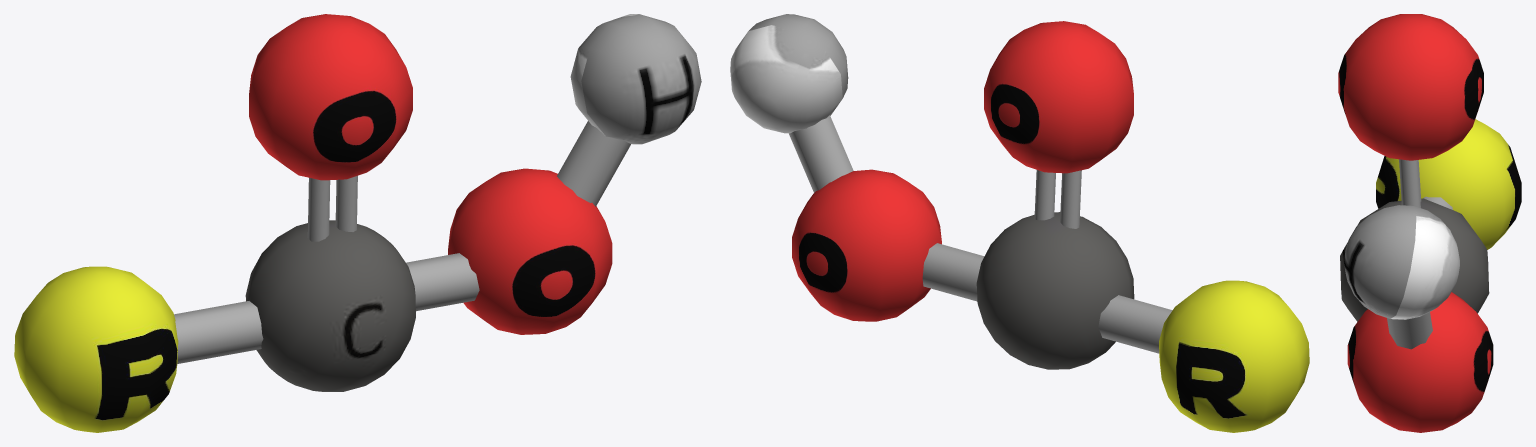
Rendered from corboxylic acid.fbx.
3 views of the same model, side by side, from view 1: azimuth 30°, elevation 25°; view 2: azimuth 150°, elevation 25°; view 3: azimuth 270°, elevation 25° (orthographic). The views are drawn at different scales.
Parts seen in each view (by area): view 1: pSphere215, pSphere217, pSphere216, pSphere218, pSphere219, pCylinder21, pCylinder20, pCylinder22, pCylinder24, pCylinder23; view 2: pSphere215, pSphere216, pSphere217, pSphere218, pSphere219, pCylinder21, pCylinder20, pCylinder22, pCylinder24, pCylinder23; view 3: pSphere217, pSphere218, pSphere219, pSphere216, pSphere215, pCylinder20, pCylinder23.
Part boxes in pixels (<box>): pSphere215: <box>245,220,415,391</box>; pSphere217: <box>249,14,412,180</box>; pSphere216: <box>14,266,178,432</box>; pSphere218: <box>448,168,612,334</box>; pSphere219: <box>570,14,701,144</box>; pCylinder21: <box>174,301,263,363</box>; pCylinder20: <box>557,121,630,206</box>; pCylinder22: <box>406,253,479,311</box>; pCylinder24: <box>307,177,330,241</box>; pCylinder23: <box>335,175,357,231</box>; pSphere215: <box>976,212,1134,369</box>; pSphere216: <box>1159,280,1309,432</box>; pSphere217: <box>984,21,1133,173</box>; pSphere218: <box>792,169,941,321</box>; pSphere219: <box>730,14,848,133</box>; pCylinder21: <box>1098,295,1172,353</box>; pCylinder20: <box>789,115,853,192</box>; pCylinder22: <box>922,243,984,301</box>; pCylinder24: <box>1060,170,1081,228</box>; pCylinder23: <box>1034,170,1055,220</box>; pSphere217: <box>1338,14,1483,160</box>; pSphere218: <box>1347,292,1493,432</box>; pSphere219: <box>1344,205,1459,319</box>; pSphere216: <box>1376,119,1521,249</box>; pSphere215: <box>1340,198,1489,321</box>; pCylinder20: <box>1387,312,1432,349</box>; pCylinder23: <box>1399,159,1420,207</box>.
Bounding box in the file's own units: 90.07 × 49.62 × 25.3.
Materials: 4 (3 with a texture image).
